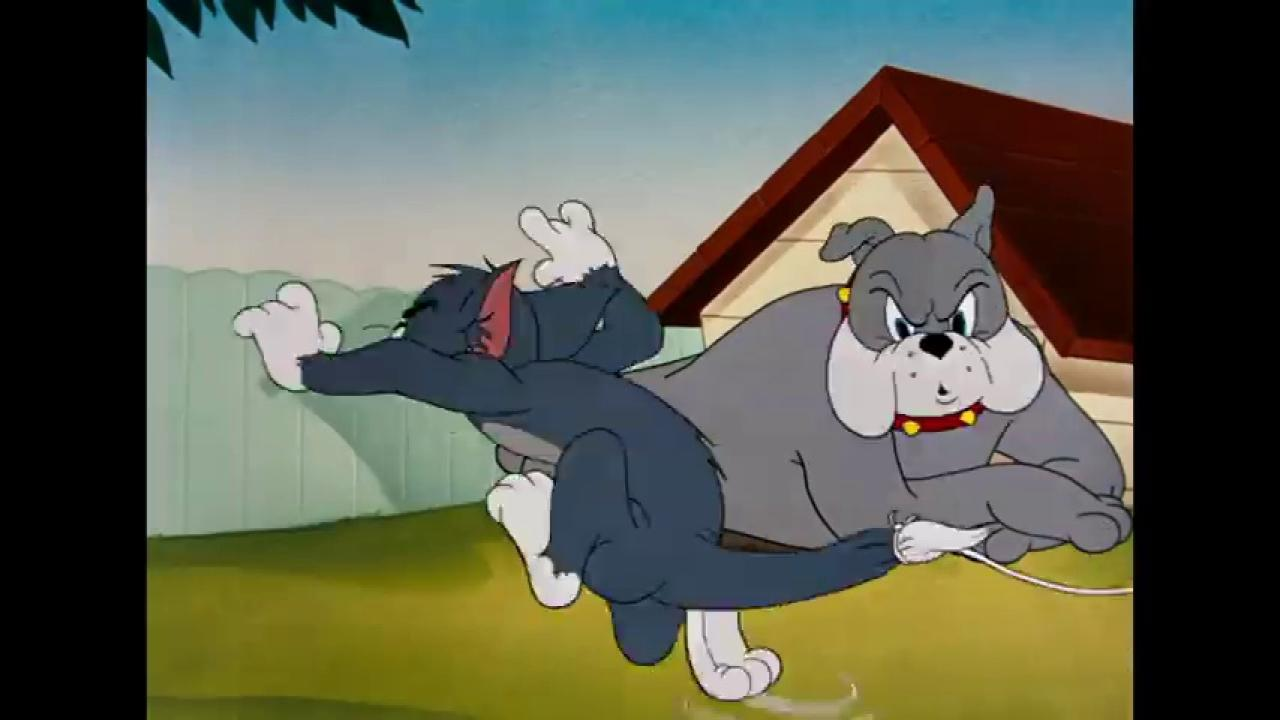Tom: (230, 197, 1005, 702)
